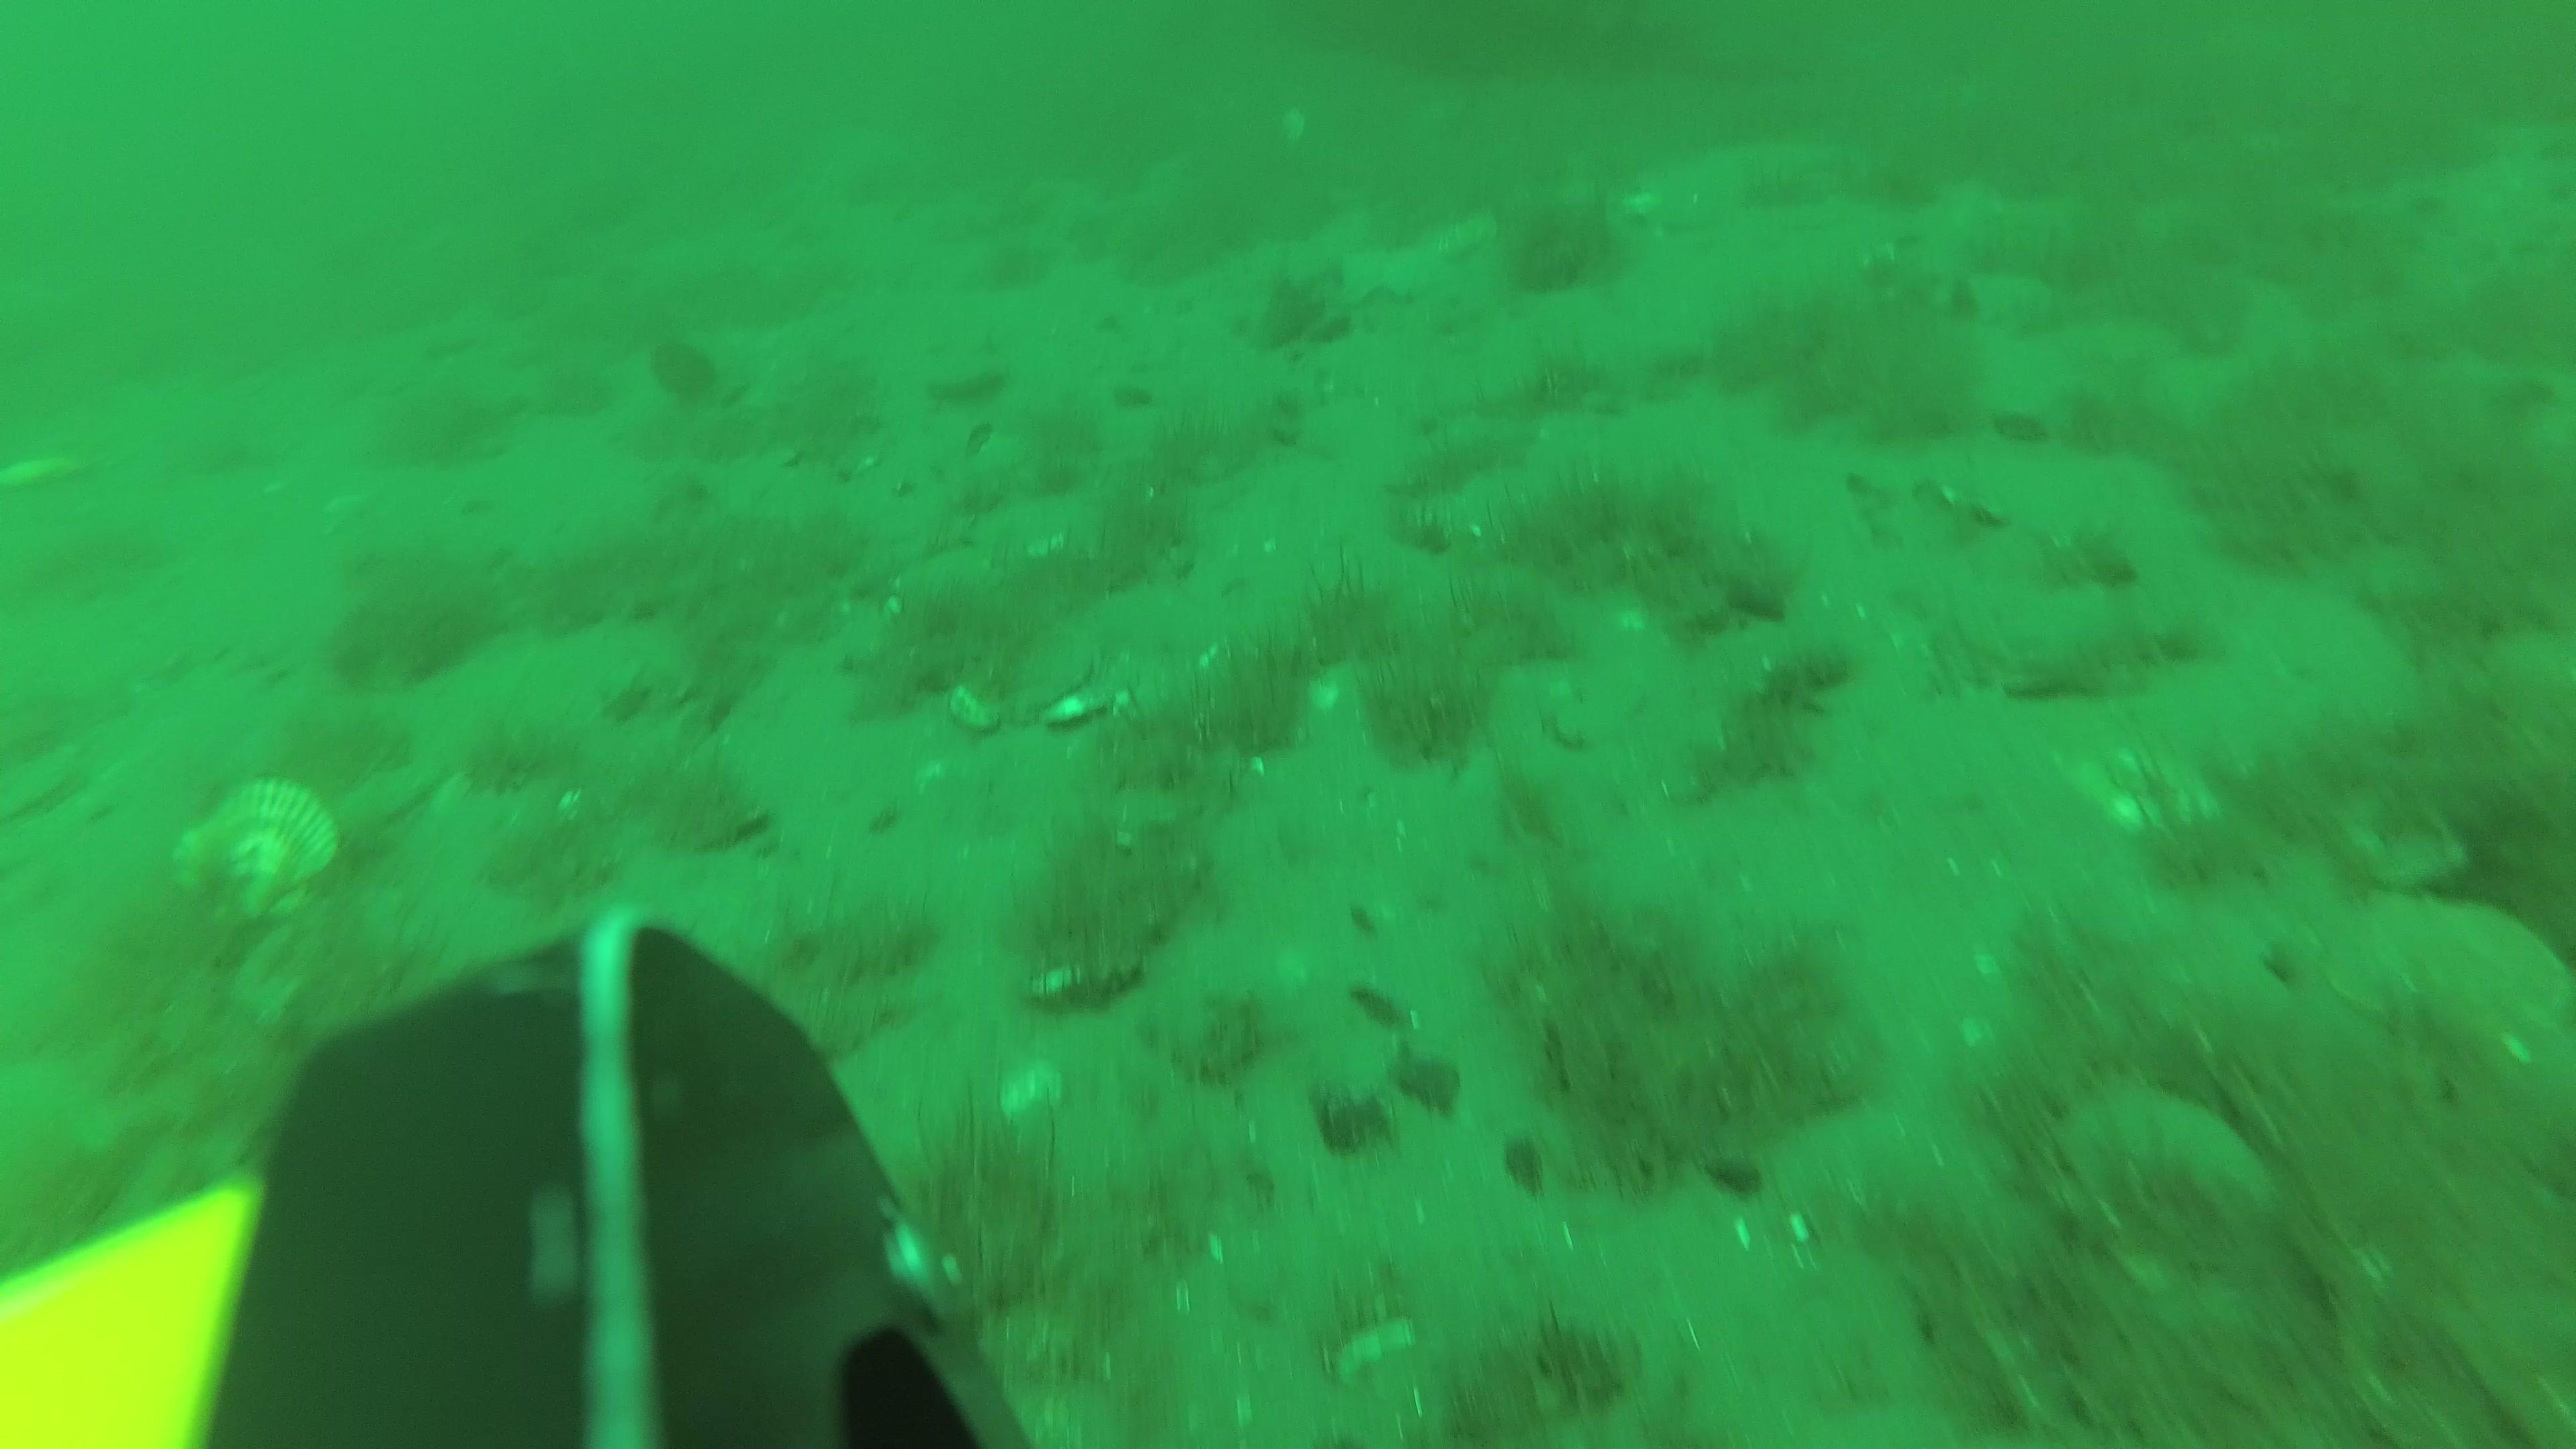scallop: (2051, 1097, 2273, 1279), (2335, 881, 2564, 1058), (168, 775, 336, 918), (950, 642, 1102, 727), (1932, 272, 2061, 338), (932, 349, 1008, 395), (1421, 214, 1491, 258), (1277, 106, 1304, 147)
starfish: (1332, 253, 1449, 306)
